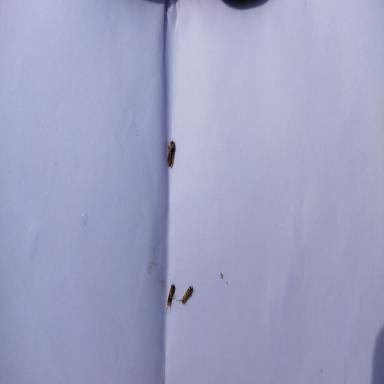pbw: (176, 285, 193, 305), (166, 283, 174, 314), (166, 140, 174, 168)
